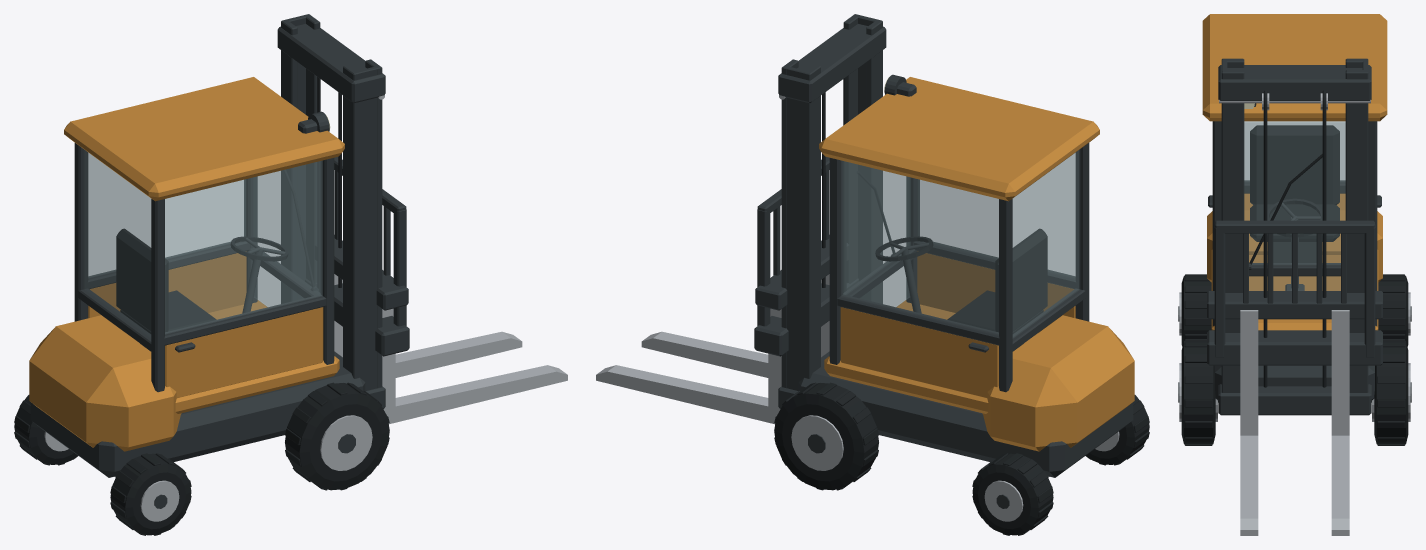
Rendered from A-NEW-20261026-COUNTERBALANCE-FORKLIFT-001_LOD2_R2.glb.
3 views of the same model, side by side, from view 1: azimuth 30°, elevation 25°; view 2: azimuth 150°, elevation 25°; view 3: azimuth 270°, elevation 25° (orthographic).
Visible parts, largest first — view 1: side captured glass, cab roof, curved rear counterweight, side captured glass.001, rear captured windshield, vehicle chassis, door lower panel, front captured windshield, treaded tire, mast channel web, mast channel flange, L fork and tapered tine (+26 smaller); view 2: side captured glass.001, cab roof, curved rear counterweight, side captured glass, rear captured windshield, vehicle chassis, door lower panel.001, front captured windshield, treaded tire.001, mast channel web.001, mast channel flange.002, L fork and tapered tine.001 (+26 smaller); view 3: cab roof, front captured windshield, seat back, mast channel flange.003, mast channel flange.001, mast crossbeam.001, carriage lower crossbar, L fork and tapered tine, L fork and tapered tine.001, carriage upper crossbar, mast crossbeam, treaded tire (+25 smaller).
Part boxes in pixels (left/top/right/bottom): side captured glass: left=165, top=161, right=322, bottom=333; cab roof: left=64, top=77, right=344, bottom=201; curved rear counterweight: left=29, top=315, right=181, bottom=451; side captured glass.001: left=88, top=153, right=245, bottom=277; rear captured windshield: left=84, top=150, right=150, bottom=337; vehicle chassis: left=30, top=355, right=365, bottom=477; door lower panel: left=165, top=307, right=323, bottom=397; front captured windshield: left=254, top=161, right=320, bottom=306; treaded tire: left=285, top=383, right=389, bottom=490; mast channel web: left=356, top=66, right=380, bottom=390; mast channel flange: left=343, top=65, right=359, bottom=378; L fork and tapered tine: left=382, top=308, right=567, bottom=424; side captured glass.001: left=841, top=161, right=998, bottom=333; cab roof: left=819, top=77, right=1099, bottom=201; curved rear counterweight: left=982, top=315, right=1134, bottom=451; side captured glass: left=918, top=153, right=1075, bottom=277; rear captured windshield: left=1013, top=150, right=1079, bottom=337; vehicle chassis: left=798, top=355, right=1133, bottom=477; door lower panel.001: left=840, top=307, right=998, bottom=397; front captured windshield: left=843, top=161, right=909, bottom=306; treaded tire.001: left=774, top=383, right=878, bottom=490; mast channel web.001: left=783, top=66, right=807, bottom=390; mast channel flange.002: left=804, top=65, right=820, bottom=378; L fork and tapered tine.001: left=596, top=308, right=781, bottom=424; cab roof: left=1202, top=14, right=1387, bottom=121; front captured windshield: left=1244, top=122, right=1345, bottom=290; seat back: left=1250, top=125, right=1339, bottom=204; mast channel flange.003: left=1345, top=70, right=1368, bottom=392; mast channel flange.001: left=1221, top=70, right=1244, bottom=392; mast crossbeam.001: left=1218, top=65, right=1371, bottom=100; carriage lower crossbar: left=1207, top=330, right=1382, bottom=365; L fork and tapered tine: left=1240, top=310, right=1258, bottom=535; L fork and tapered tine.001: left=1331, top=310, right=1349, bottom=535; carriage upper crossbar: left=1207, top=291, right=1382, bottom=319; mast crossbeam: left=1218, top=384, right=1371, bottom=415; treaded tire: left=1181, top=340, right=1215, bottom=444.
Bounding box in the file's own units: 3.42 × 2.68 × 1.43.
